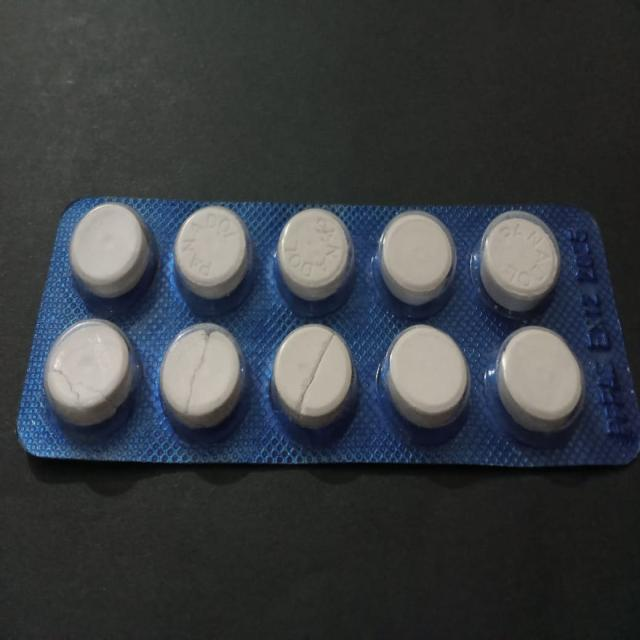defect: (154, 318, 256, 441), (42, 316, 143, 438), (267, 320, 362, 440)
